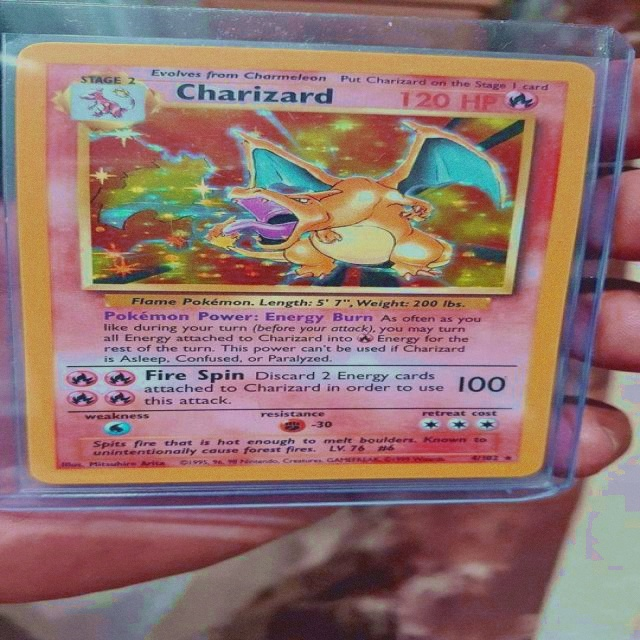card: (15, 42, 595, 485)
